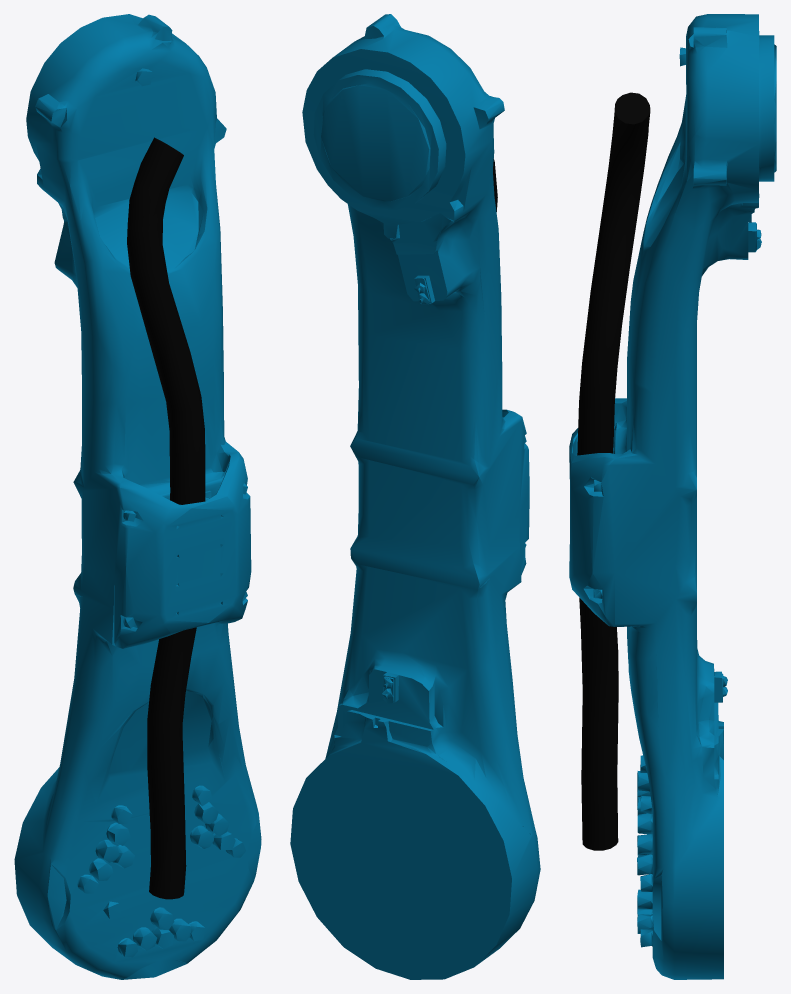
3 renders of one model, left to right at view 1: azimuth 30°, elevation 25°; view 2: azimuth 150°, elevation 25°; view 3: azimuth 270°, elevation 25°, orthographic.
Visible parts, largest first — view 1: f_1-06vxh25-a0_lk2; view 2: f_1-06vxh25-a0_lk2; view 3: f_1-06vxh25-a0_lk2.
Part boxes in pixels (bbox=[...]): f_1-06vxh25-a0_lk2: bbox=[14, 14, 261, 979]; f_1-06vxh25-a0_lk2: bbox=[290, 14, 540, 979]; f_1-06vxh25-a0_lk2: bbox=[569, 14, 776, 979].
Size of the model in its own units: 0.24 by 0.1927 by 0.9754.
